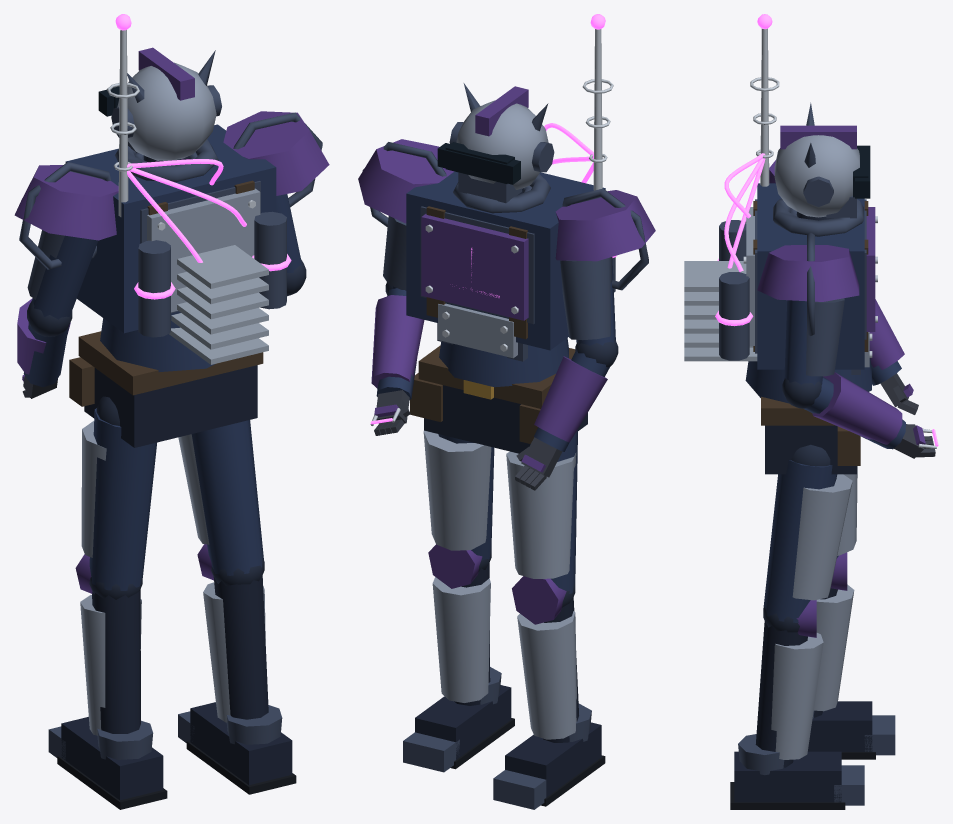
The model's file is hero_tempest.glb.
3 renders of one model, left to right at view 1: azimuth 30°, elevation 25°; view 2: azimuth 150°, elevation 25°; view 3: azimuth 270°, elevation 25°, orthographic. The views are drawn at different scales.
Parts seen in each view (by area): view 1: hero_tempest_chest, hero_tempest_spine_fins, hero_tempest_thigh_l, hero_tempest_thigh_r, hero_tempest_pelvis, hero_tempest_helmet, hero_tempest_shin_r, hero_tempest_pauldron-1, hero_tempest_back_plate_face, hero_tempest_shin_l, hero_tempest_pauldron1, hero_tempest_boot_l (+30 smaller); view 2: hero_tempest_chest, hero_tempest_chest_plate_face, hero_tempest_thigh_plate_r, hero_tempest_thigh_plate_l, hero_tempest_greave_l, hero_tempest_greave_r, hero_tempest_pauldron-1, hero_tempest_pelvis, hero_tempest_pauldron1, hero_tempest_abdomen, hero_tempest_bicep_plate_l, hero_tempest_helmet (+32 smaller); view 3: hero_tempest_chest, hero_tempest_thigh_r, hero_tempest_thigh_plate_r, hero_tempest_greave_r, hero_tempest_helmet, hero_tempest_pauldron1, hero_tempest_boot_r, hero_tempest_spine_fins, hero_tempest_bracer_r, hero_tempest_greave_l, hero_tempest_boot_l, hero_tempest_pelvis (+31 smaller).
Part boxes in pixels (box(x1,y1,x2,y2)): hero_tempest_chest: box(65, 124, 276, 333); hero_tempest_spine_fins: box(169, 245, 268, 364); hero_tempest_thigh_l: box(89, 408, 156, 590); hero_tempest_thigh_r: box(191, 420, 263, 575); hero_tempest_pelvis: box(84, 365, 257, 447); hero_tempest_helmet: box(117, 62, 216, 160); hero_tempest_shin_r: box(213, 574, 268, 719); hero_tempest_pauldron-1: box(14, 165, 118, 240); hero_tempest_back_plate_face: box(147, 188, 260, 312); hero_tempest_shin_l: box(92, 589, 140, 733); hero_tempest_pauldron1: box(223, 111, 329, 195); hero_tempest_boot_l: box(61, 717, 163, 800); hero_tempest_chest: box(406, 171, 605, 350); hero_tempest_chest_plate_face: box(421, 214, 528, 320); hero_tempest_thigh_plate_r: box(423, 430, 491, 550); hero_tempest_thigh_plate_l: box(506, 451, 576, 578); hero_tempest_greave_l: box(517, 611, 576, 739); hero_tempest_greave_r: box(432, 577, 490, 702); hero_tempest_pauldron-1: box(555, 190, 655, 261); hero_tempest_pelvis: box(424, 385, 587, 453); hero_tempest_pauldron1: box(358, 139, 454, 223); hero_tempest_abdomen: box(439, 338, 568, 387); hero_tempest_bicep_plate_l: box(560, 257, 611, 340); hero_tempest_helmet: box(456, 100, 548, 189); hero_tempest_chest: box(757, 183, 864, 369); hero_tempest_thigh_r: box(763, 460, 837, 622); hero_tempest_thigh_plate_r: box(792, 474, 852, 600); hero_tempest_greave_r: box(771, 633, 823, 759); hero_tempest_helmet: box(774, 135, 859, 217); hero_tempest_pauldron1: box(757, 245, 859, 301); hero_tempest_boot_r: box(734, 751, 841, 802); hero_tempest_spine_fins: box(684, 261, 757, 361); hero_tempest_bracer_r: box(812, 372, 902, 444); hero_tempest_greave_l: box(813, 584, 854, 711); hero_tempest_boot_l: box(808, 701, 872, 751); hero_tempest_pelvis: box(765, 425, 856, 474).
Bounding box in the file's own units: 0.8368 × 2.09 × 0.6631.
